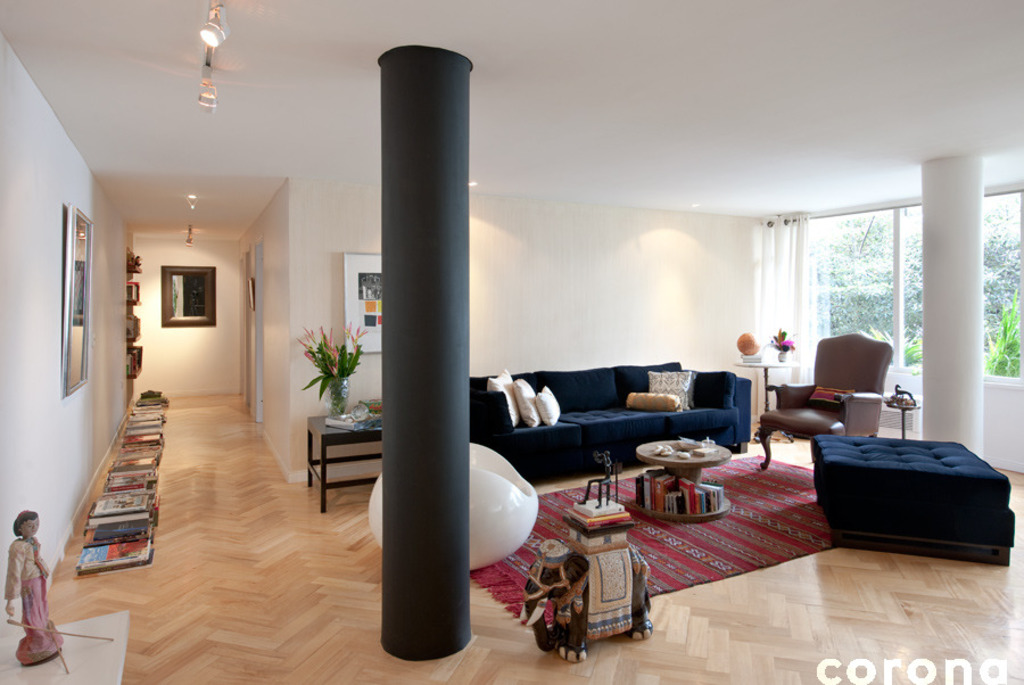Chair: (760, 348, 907, 486)
